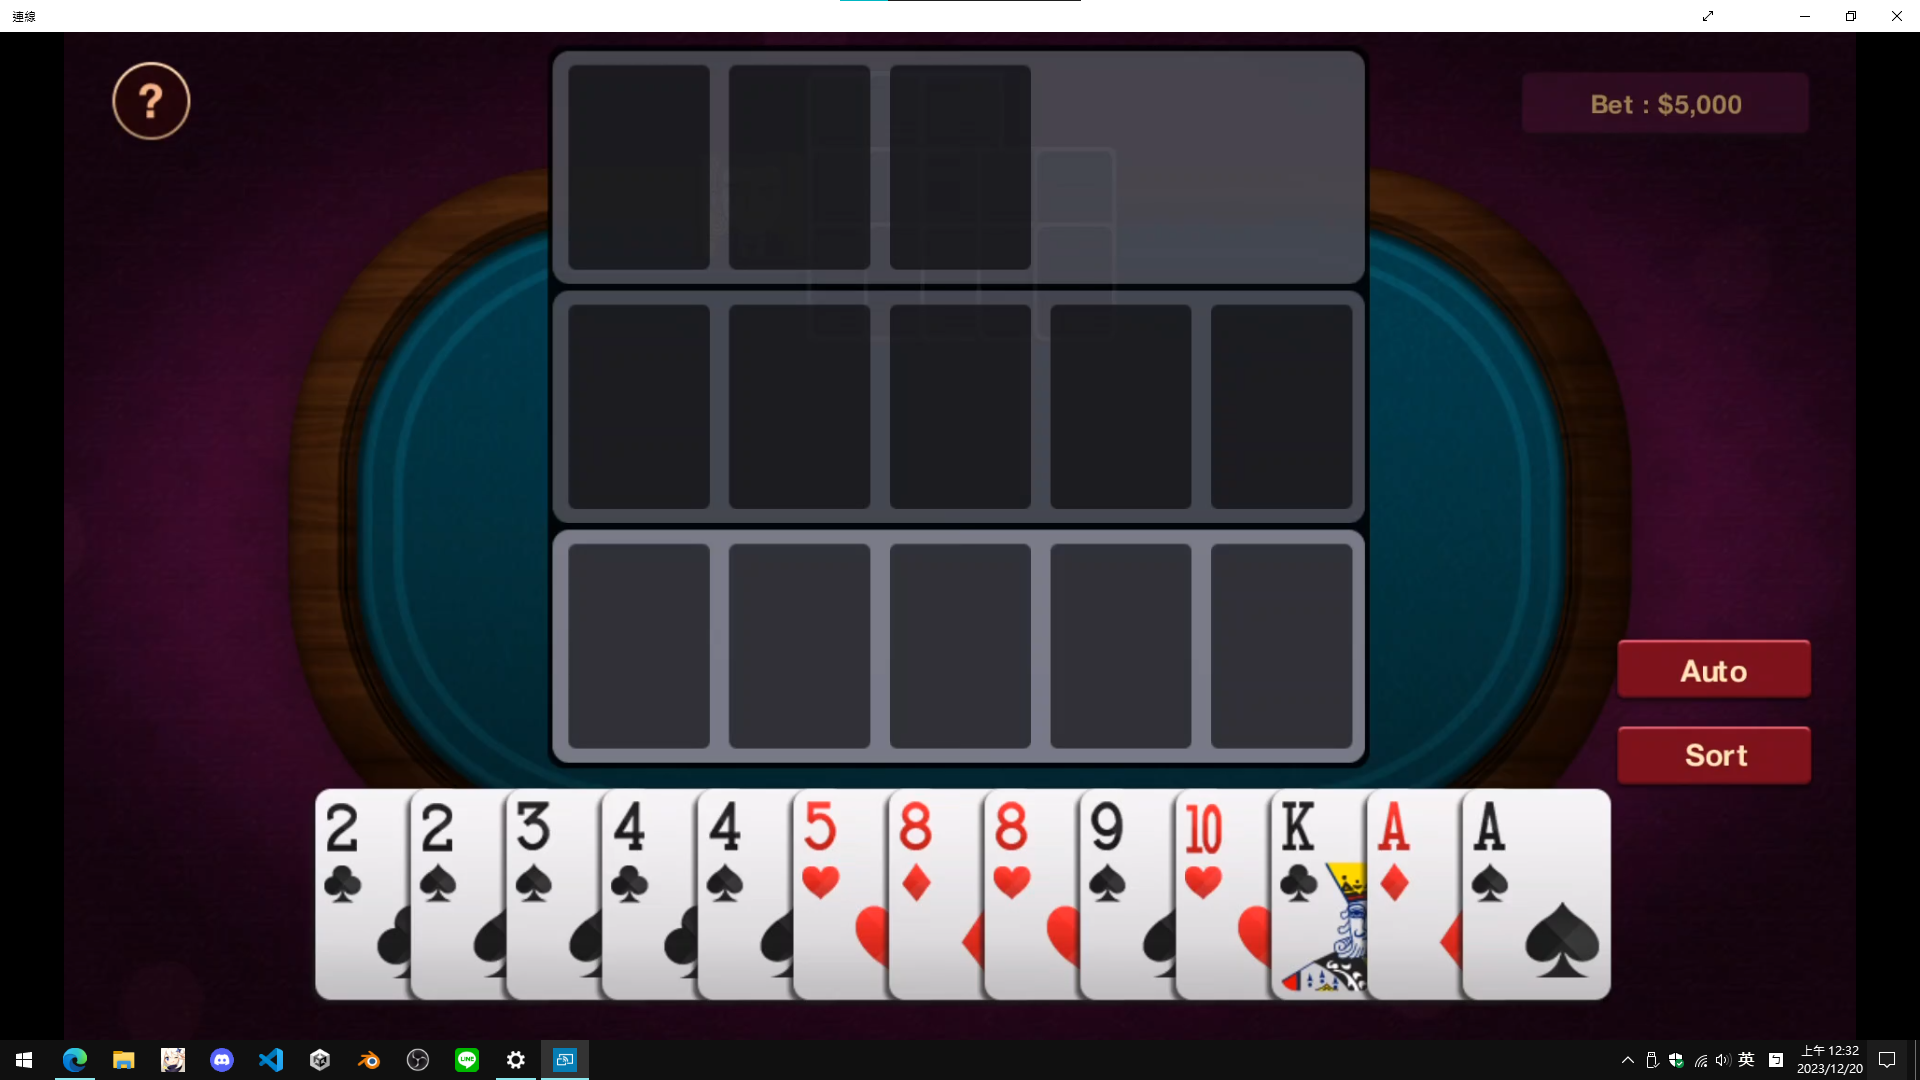10H: (1183, 798, 1229, 906)
2C: (320, 799, 368, 907)
2S: (415, 798, 462, 903)
3S: (512, 798, 558, 907)
4C: (611, 795, 655, 907)
4S: (705, 796, 748, 907)
5H: (799, 795, 844, 906)
8D: (895, 798, 942, 906)
8H: (990, 795, 1035, 905)
9S: (1085, 796, 1131, 907)
AD: (1373, 796, 1415, 907)
AS: (1466, 796, 1515, 906)
KC: (1276, 794, 1321, 906)
